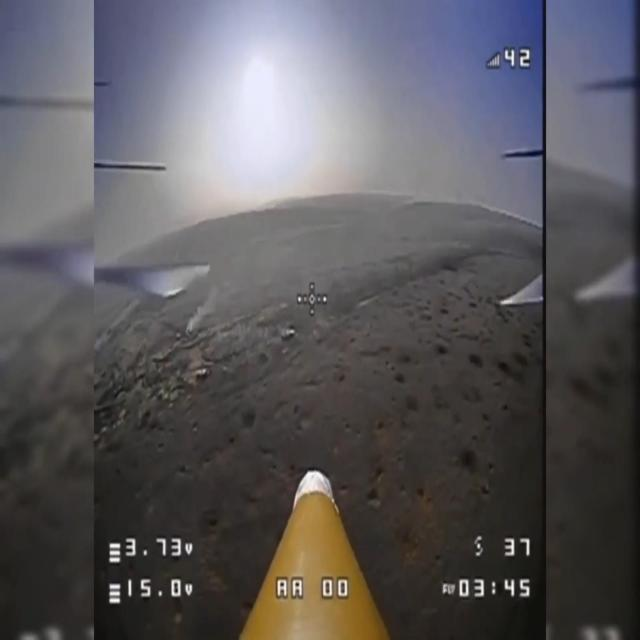apc: (195, 368, 208, 380)
cars: (282, 328, 295, 339)
